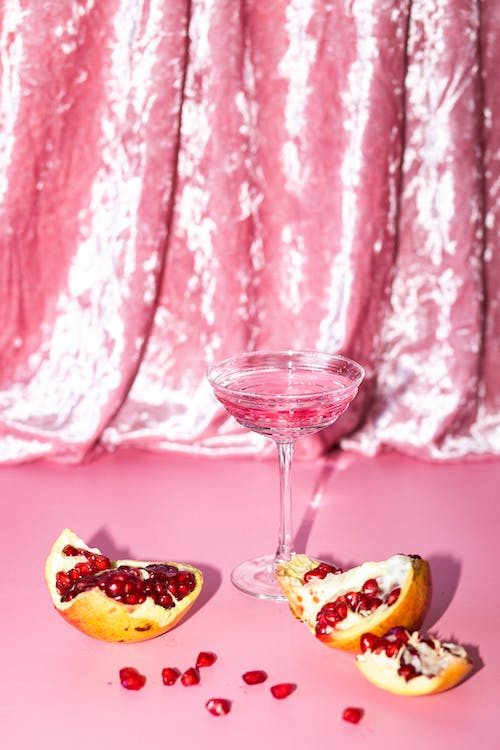alcohol: (206, 349, 366, 602)
